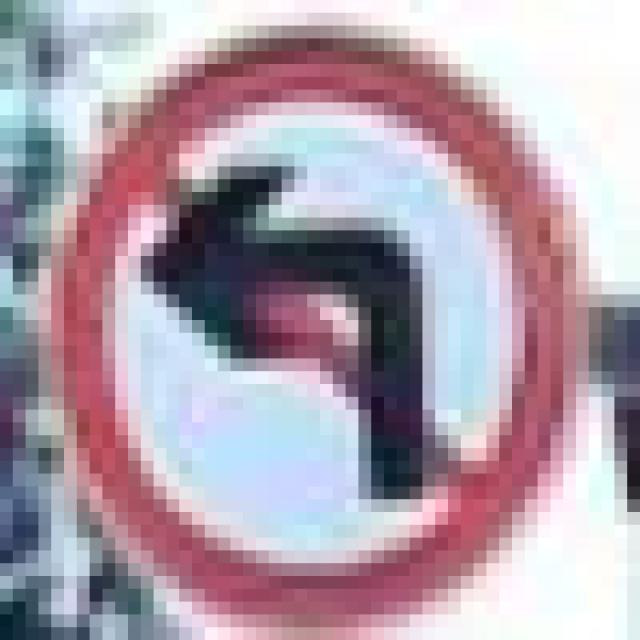LEFT_TURN_PROHIBITED: (39, 26, 564, 627)
